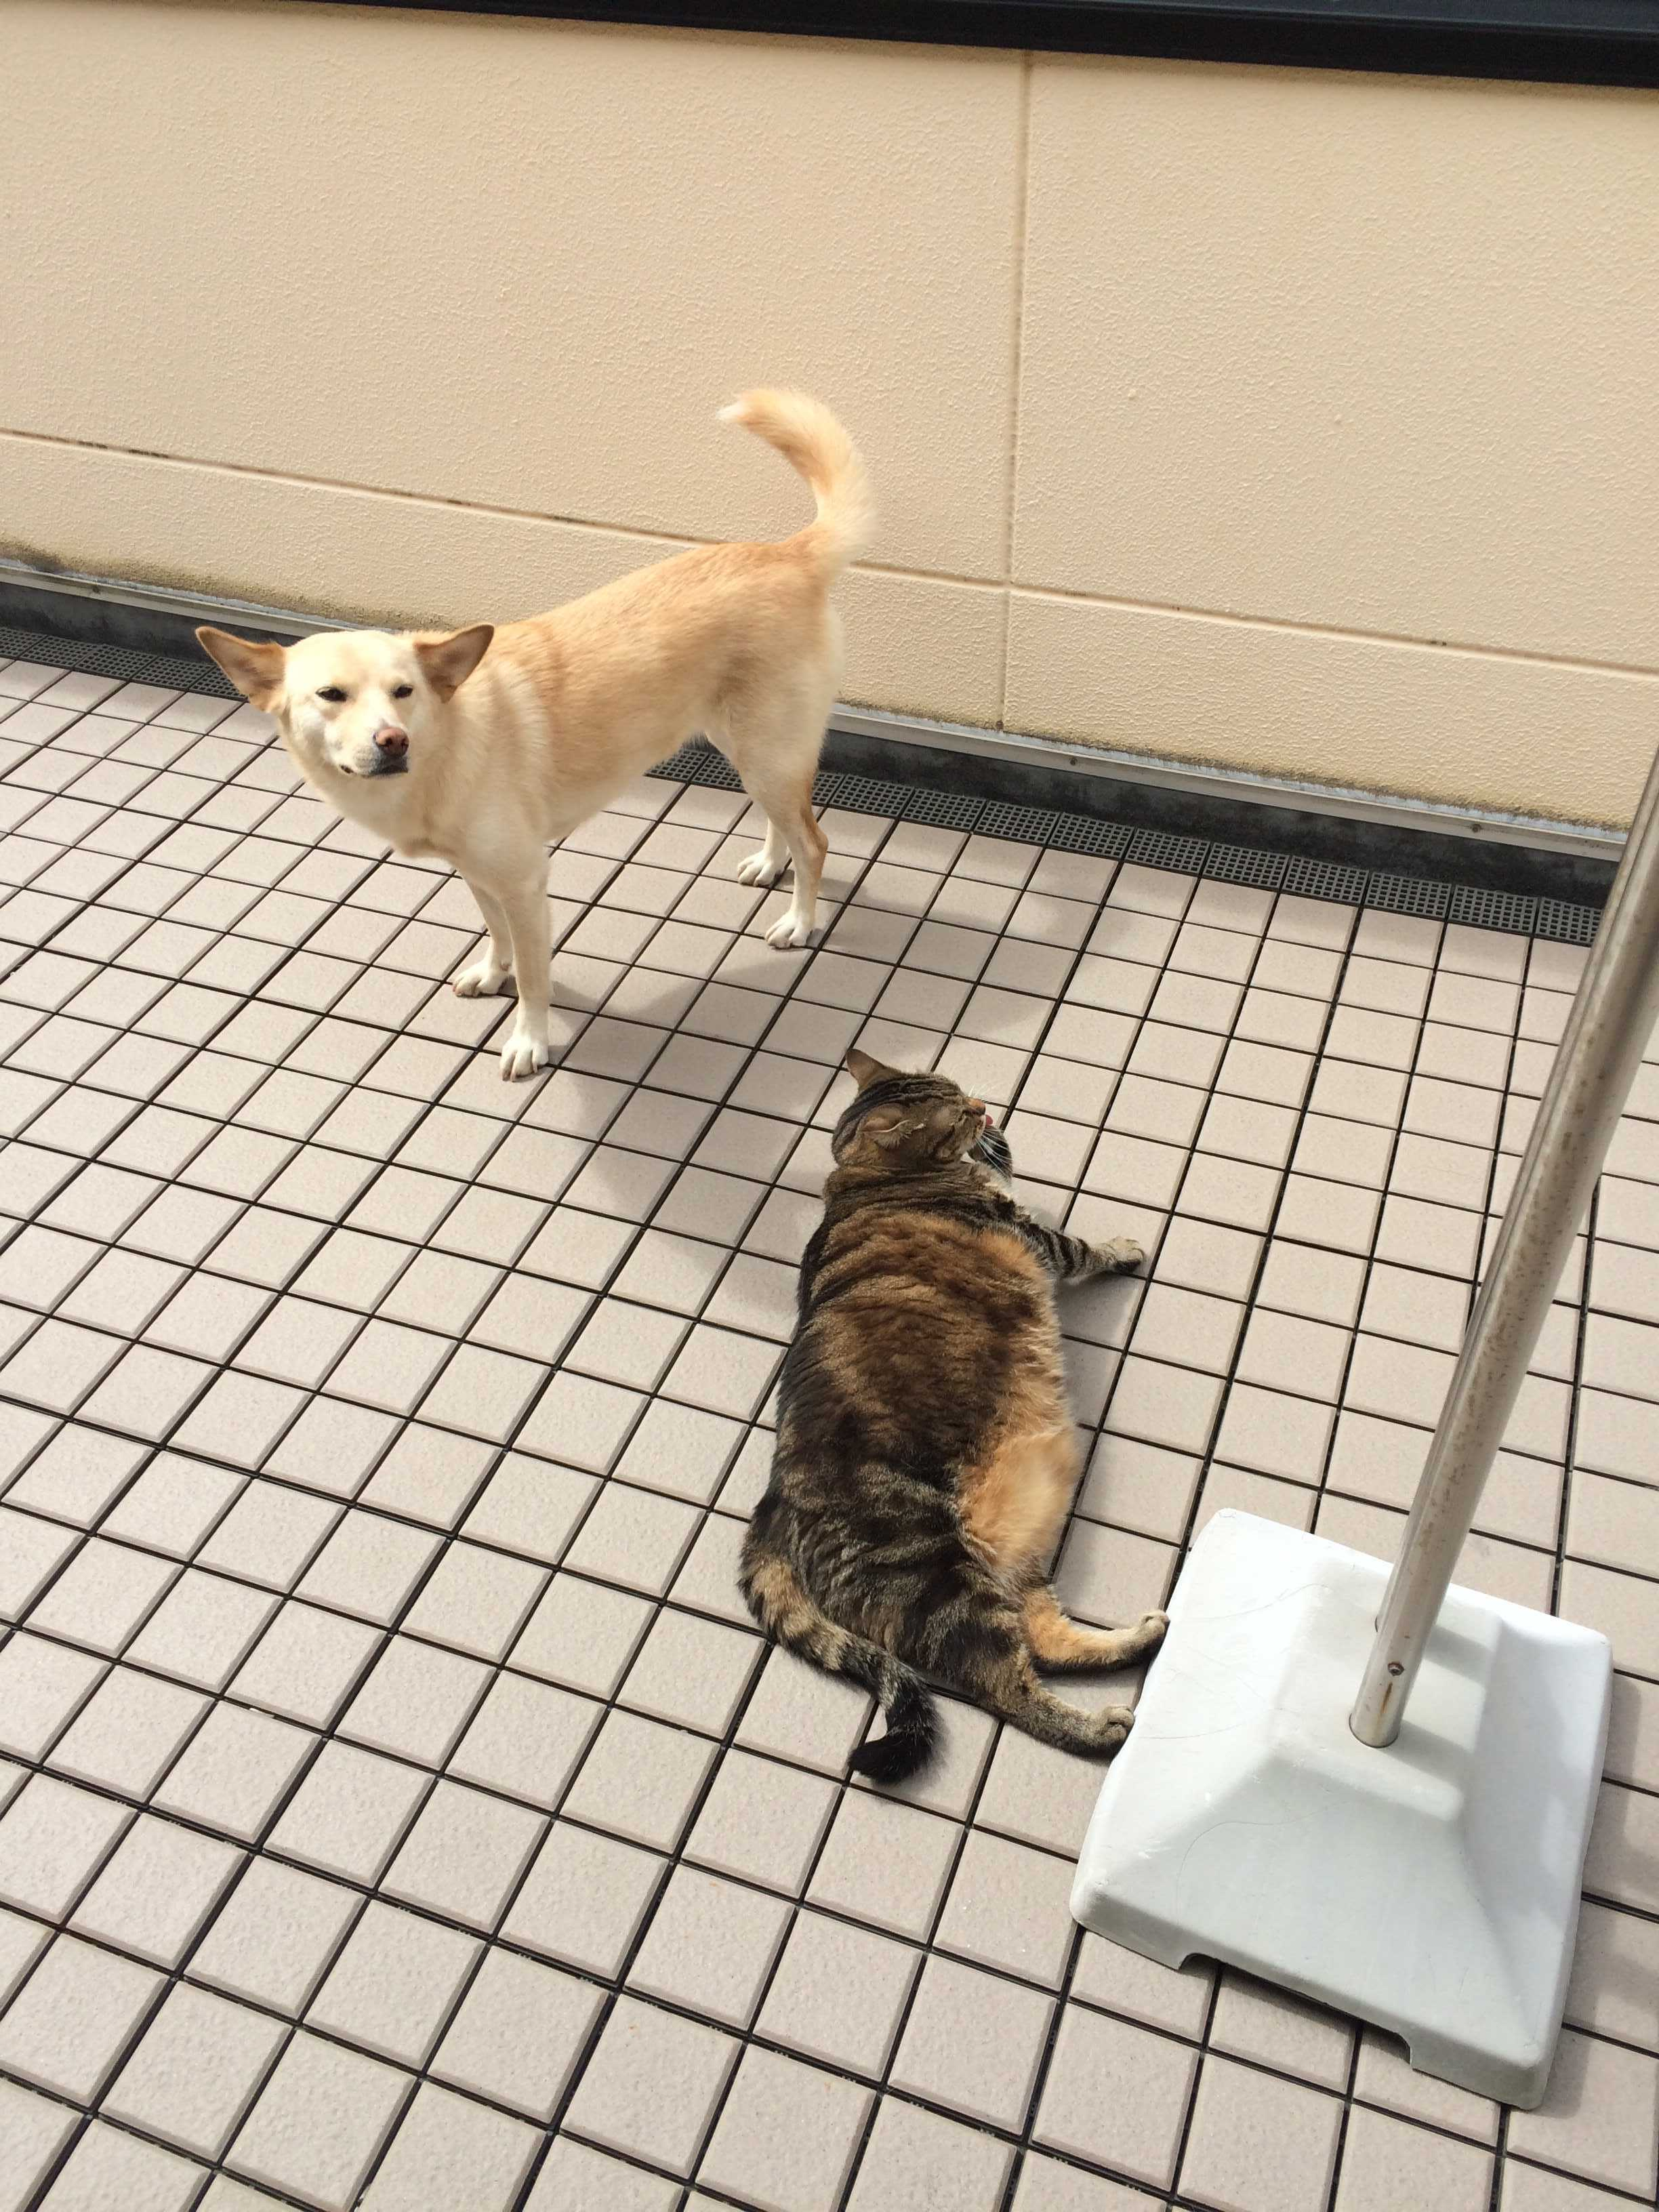cat: (727, 1059, 1159, 1791)
dog: (211, 387, 840, 1055)
